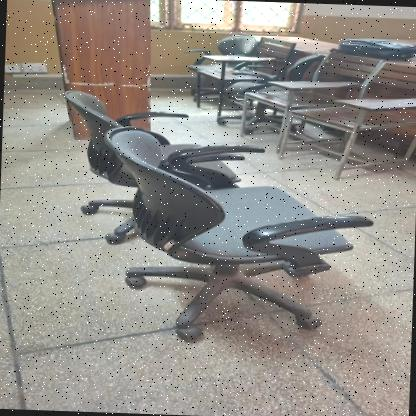chair: (87, 121, 368, 352), (311, 45, 416, 185)
